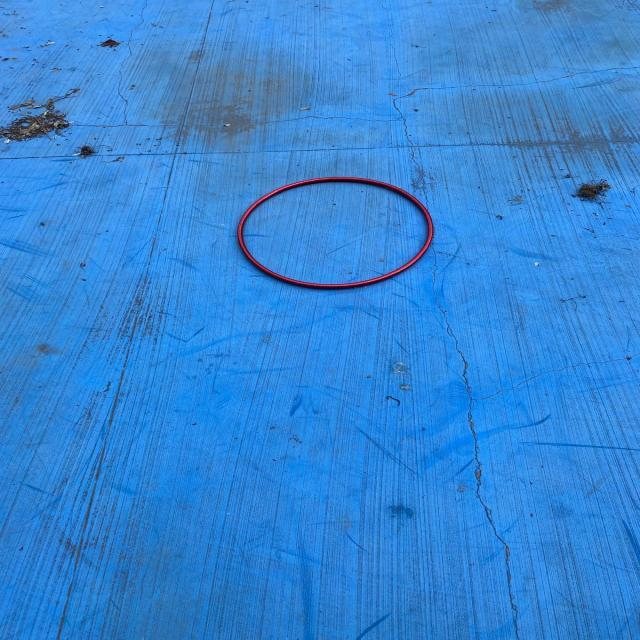Circle: (235, 174, 436, 290)
